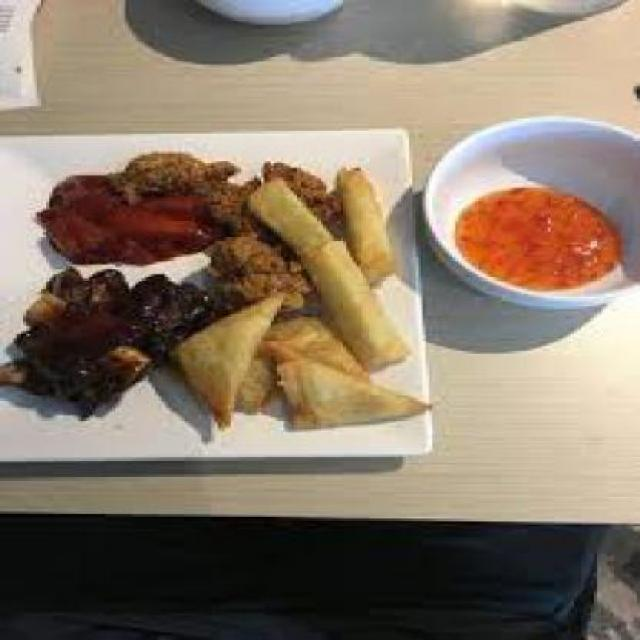samosa: (171, 292, 432, 433)
spring rolls: (248, 158, 412, 356)
